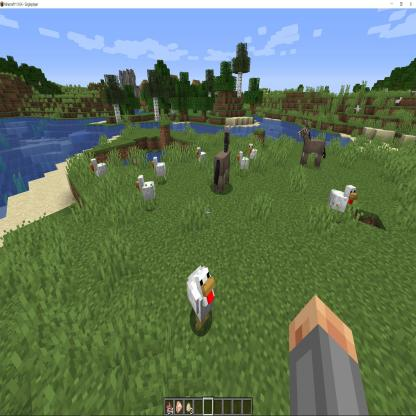minecraft-pigs: (188, 120, 228, 222)
